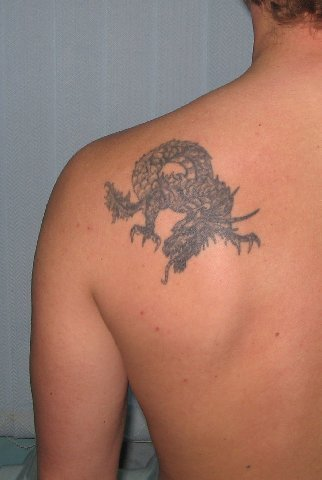tatu6_drakon: (81, 128, 289, 296)
